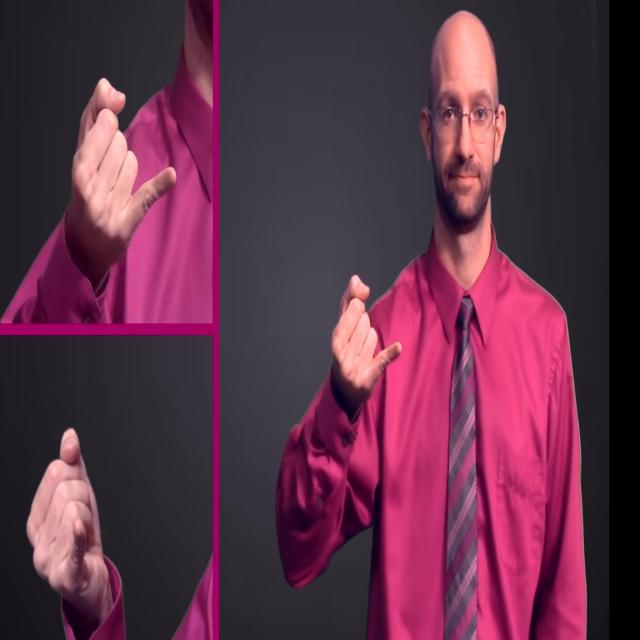J: (49, 68, 180, 273), (22, 425, 120, 618), (327, 267, 404, 410)
